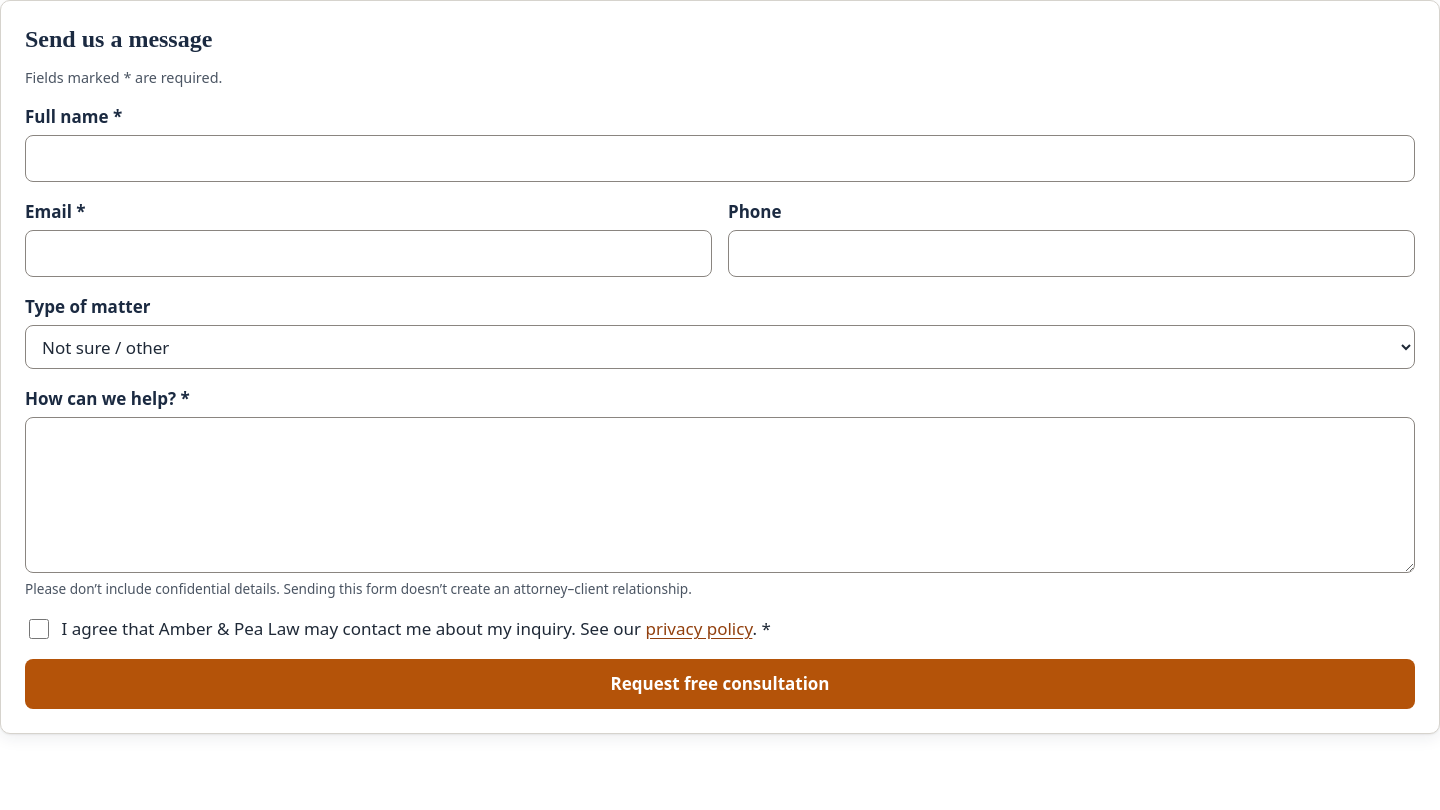
Scenario: LeadForm › submits trimmed values with the source and an empty honeypot
Type "  Jane Sample " into the field labelled "Full name *".
click(720, 159); type("  Jane Sample ")  # box [25, 135, 1415, 182]
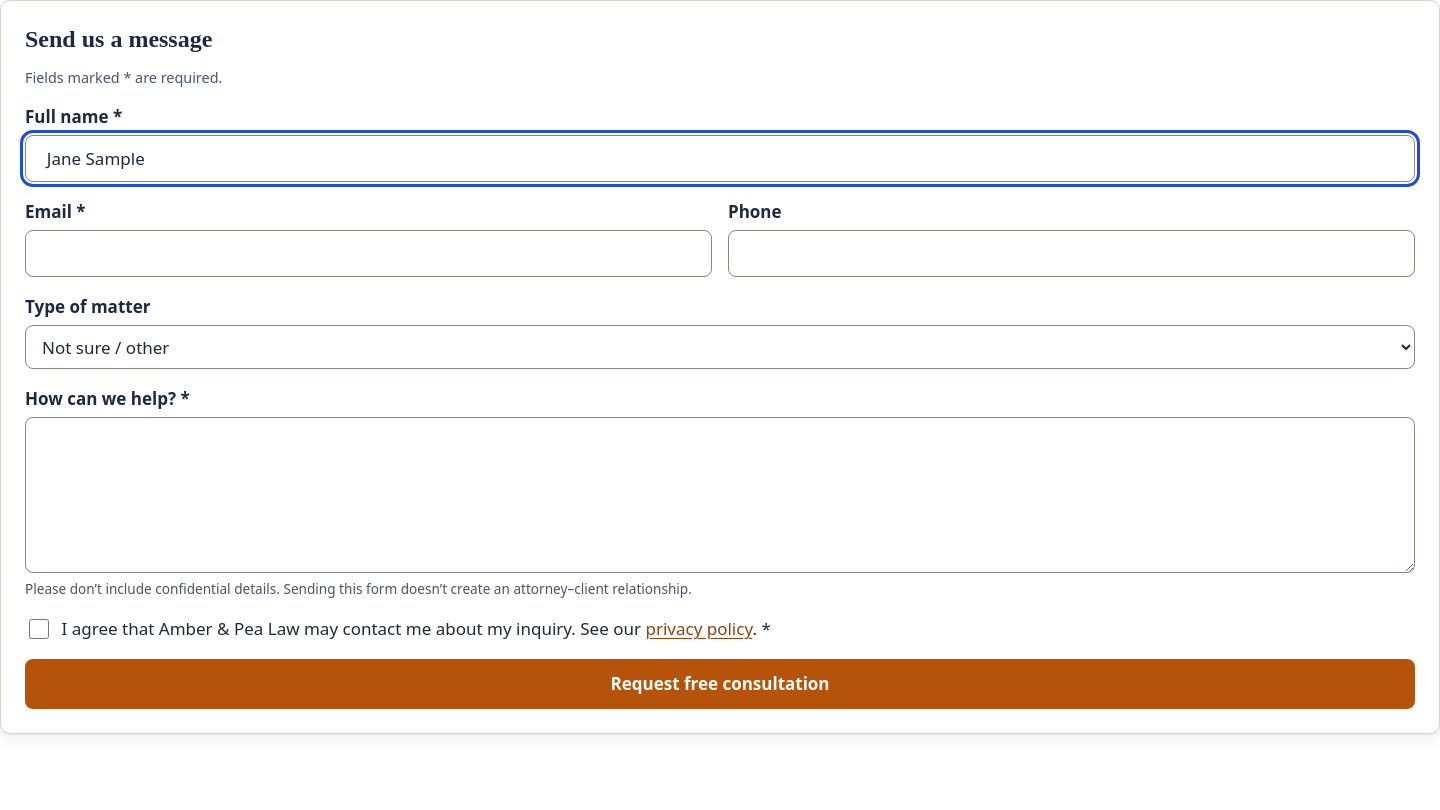
Type "jane@example.com" into the field labelled "Email *".
click(368, 253); type("jane@example.com")  # box [25, 230, 712, 277]
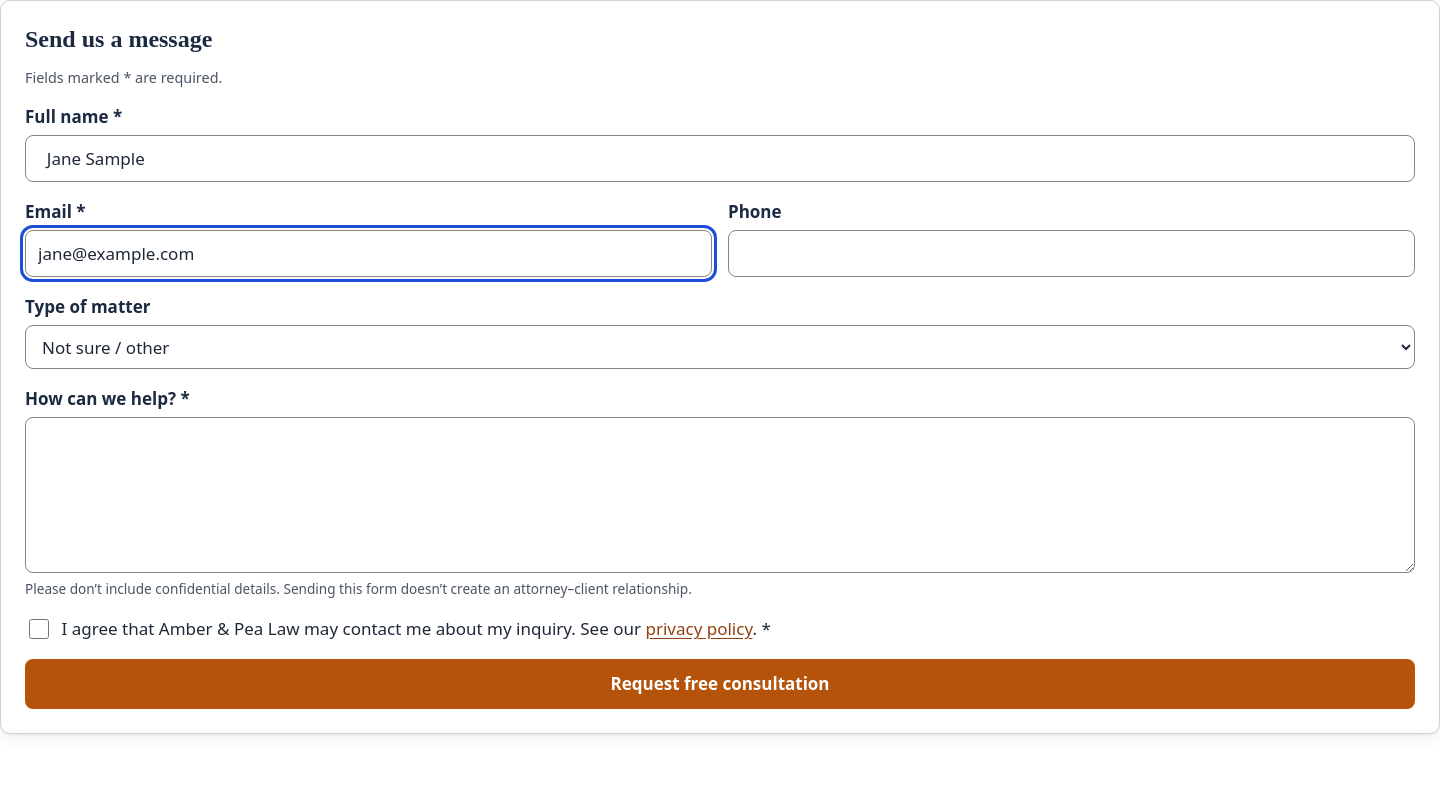
Select "Divorce" in the dropdown labelled "Type of matter" at (720, 347), box [25, 325, 1415, 369]
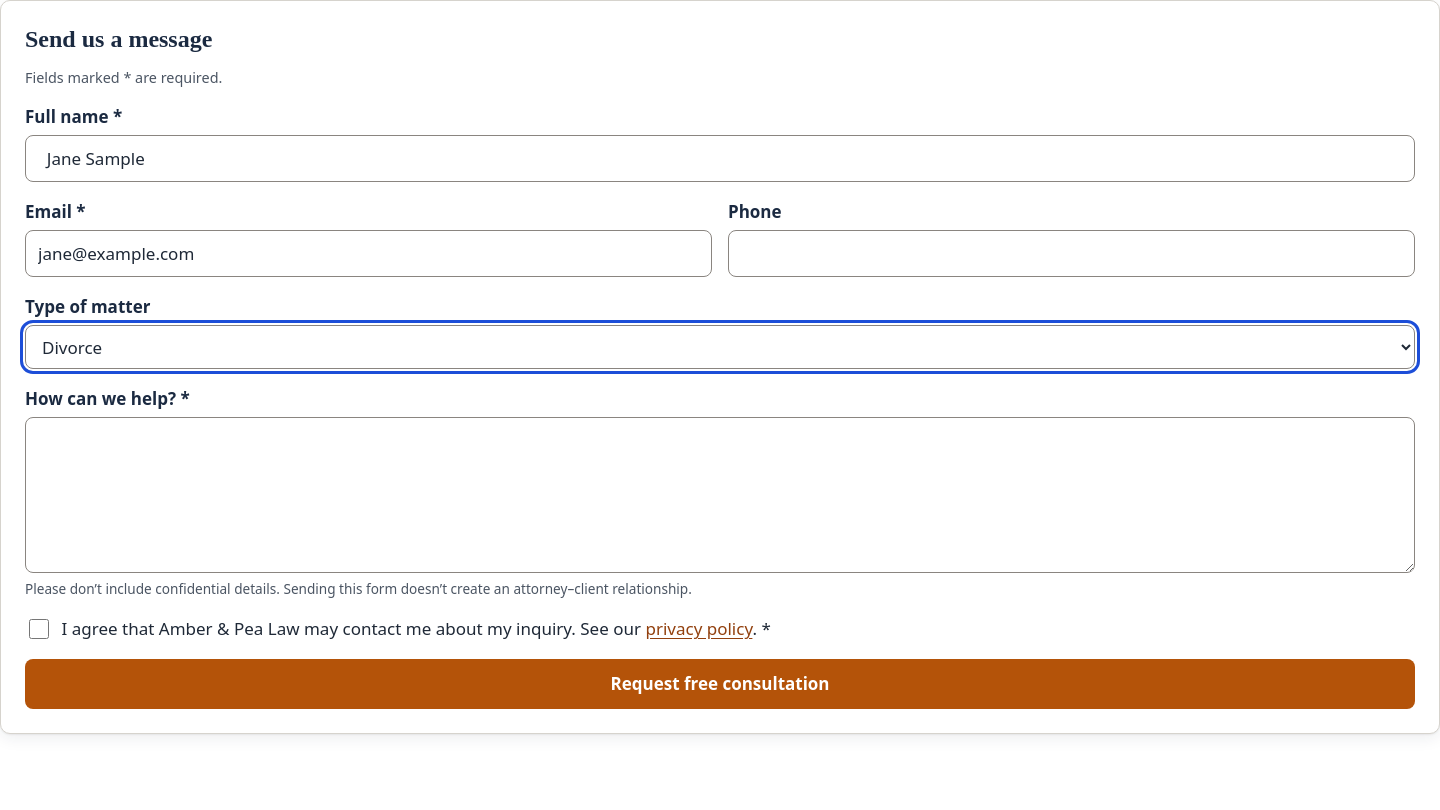
Type "Question about fees" into the text box labelled "How can we help? *".
click(720, 495); type("Question about fees")  # box [25, 417, 1415, 573]
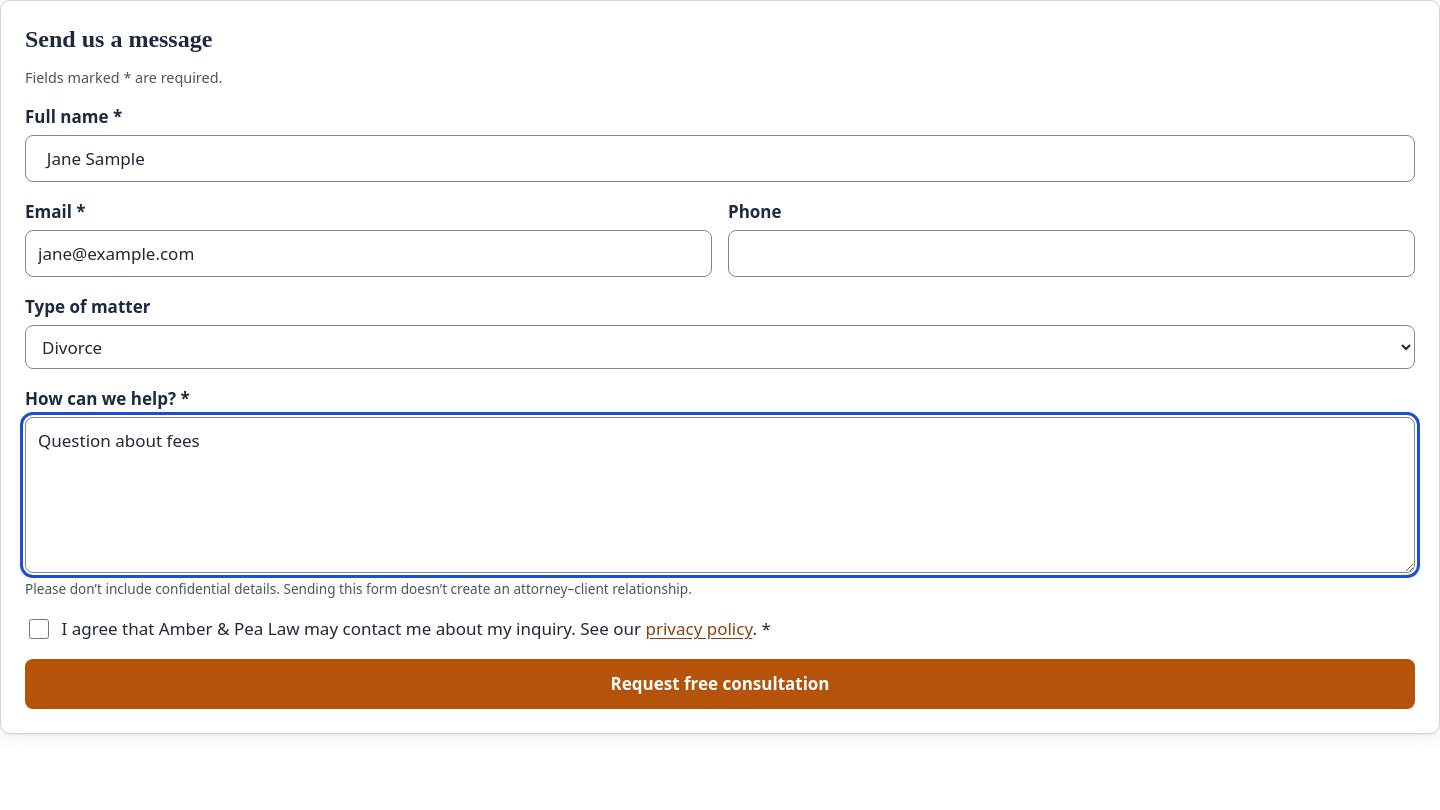
Click the checkbox labelled "may contact me".
click(39, 629)  # box [29, 619, 49, 639]
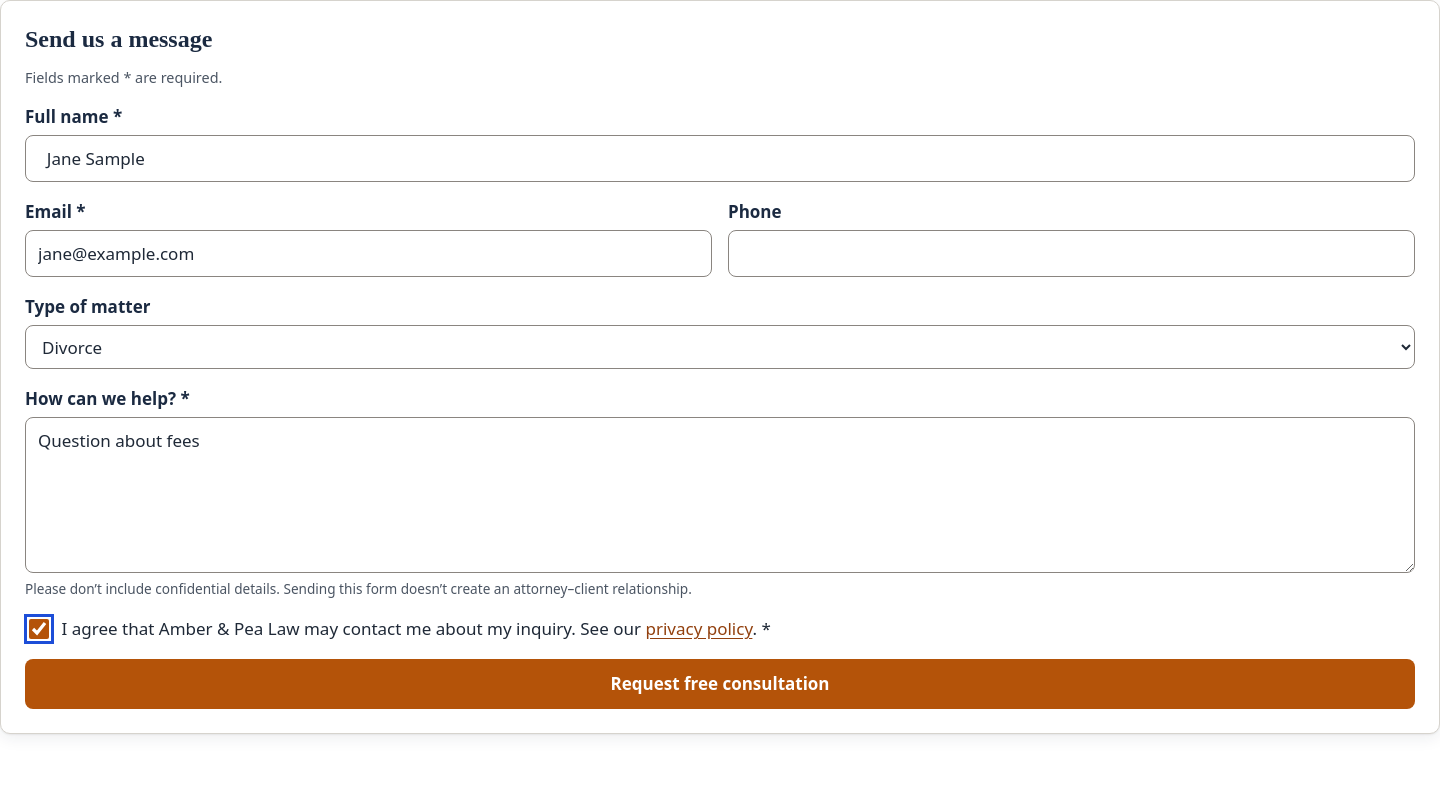
Click the button "Request free consultation".
click(720, 684)  # box [25, 659, 1415, 709]
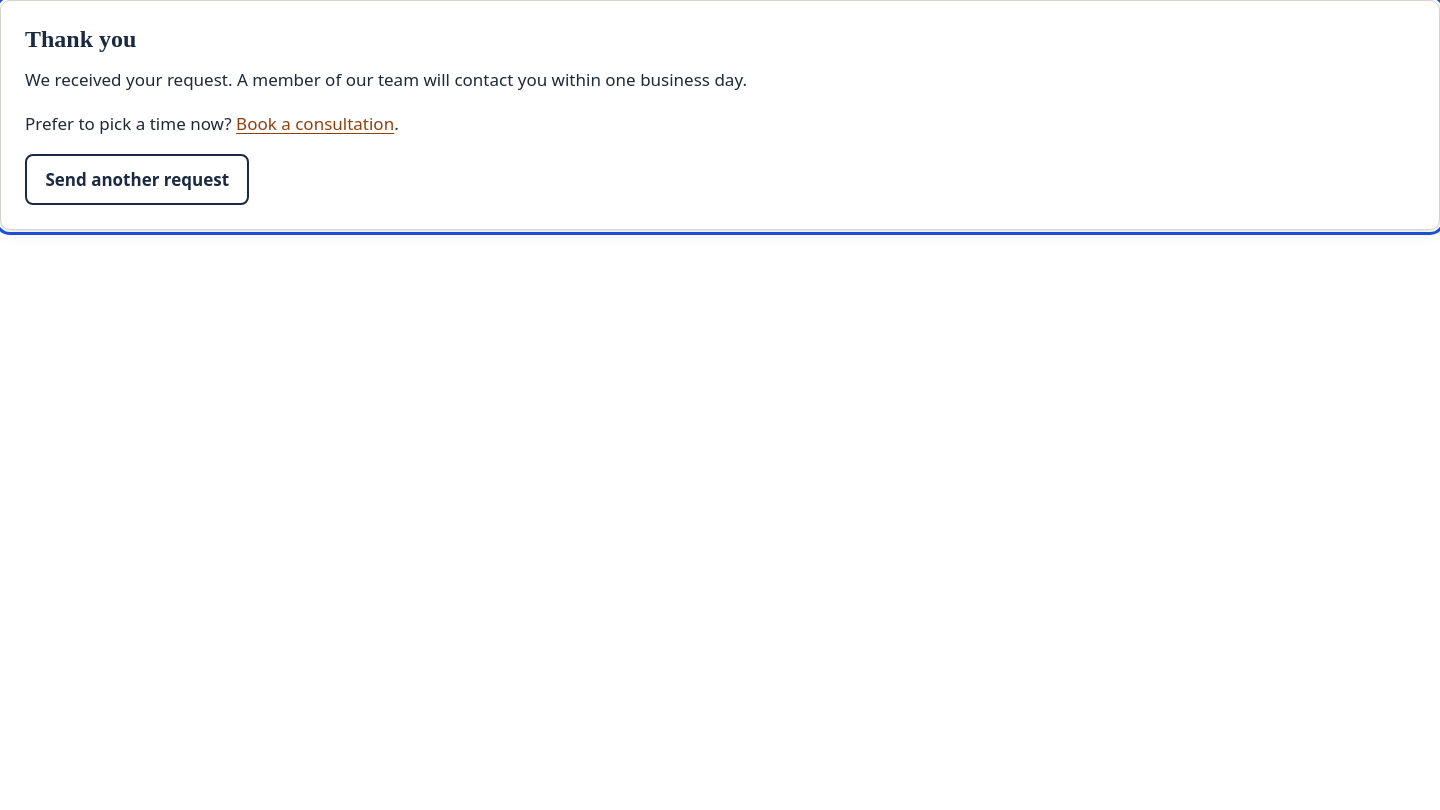
Now the message shows "We received your request", box [25, 68, 747, 91]
